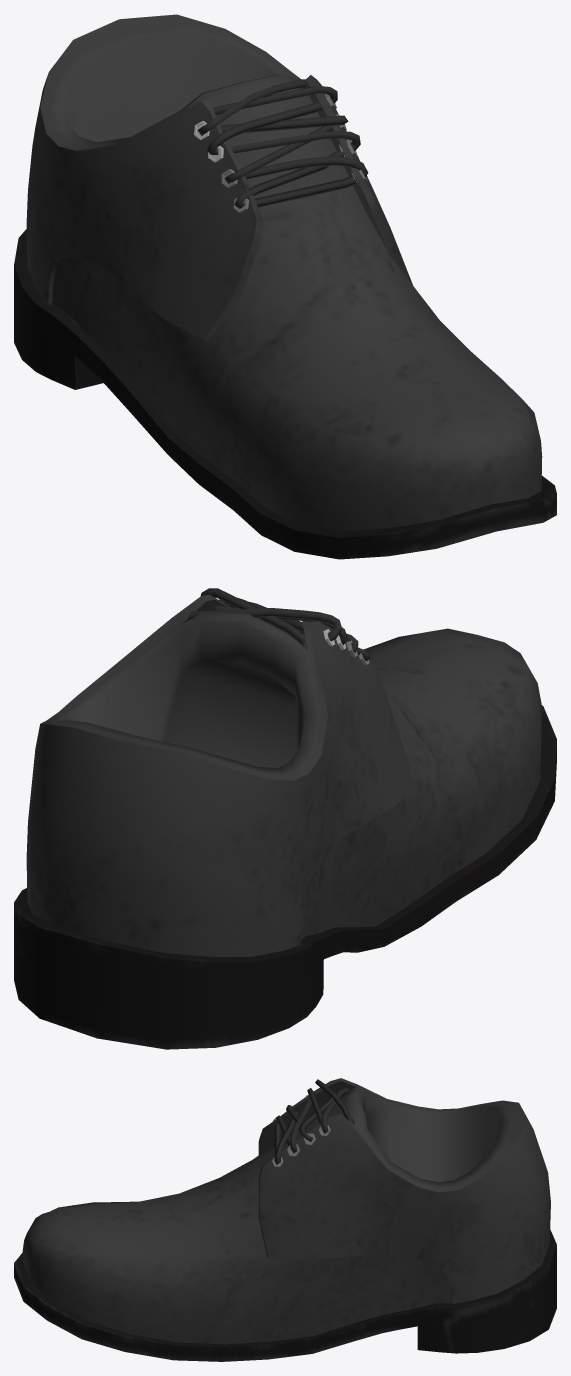
The model's file is Shoe.fbx.
3 views of the same model, one above another, from view 1: azimuth 30°, elevation 25°; view 2: azimuth 150°, elevation 25°; view 3: azimuth 270°, elevation 25° (orthographic). The views are drawn at different scales.
Parts seen in each view (by area): view 1: Shoe; view 2: Shoe; view 3: Shoe.
Part boxes in pixels (x1,y1,x2,y2): Shoe: (14, 14, 556, 559); Shoe: (14, 588, 556, 1049); Shoe: (14, 1078, 556, 1361).
Bounding box in the file's own units: 0.1055 × 0.123 × 0.2695.
